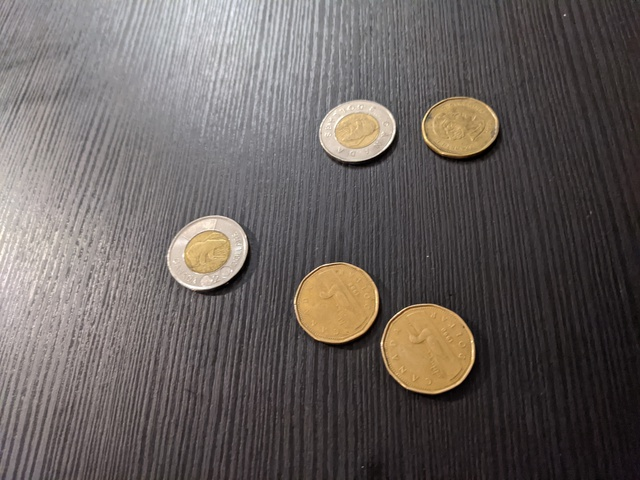loonie: (380, 289, 480, 390), (286, 253, 380, 347), (417, 91, 508, 163)
twonie: (163, 209, 255, 297), (313, 101, 402, 164)
